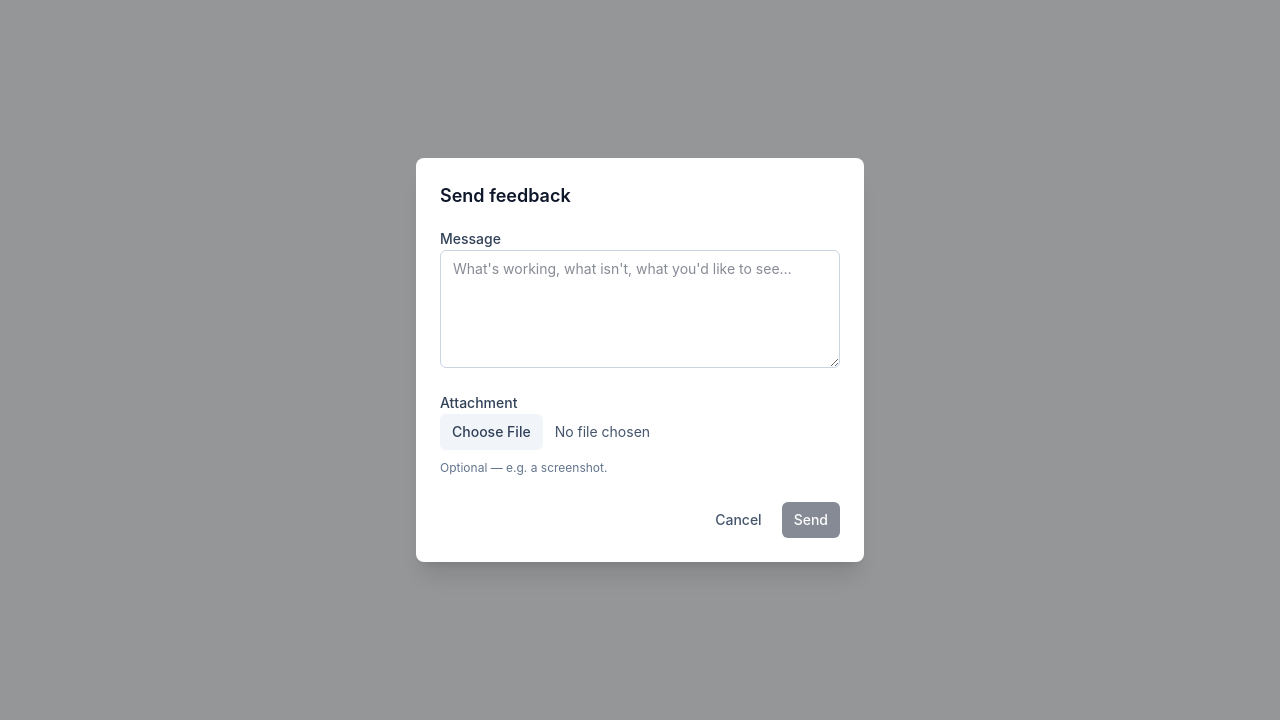
Test case: FeedbackForm › shows the error and keeps the message for a retry
This screenshot has width=1280, height=720.
Type "Bug report" into the text box labelled "Message".
click(640, 309); type("Bug report")  # box [440,250,840,368]
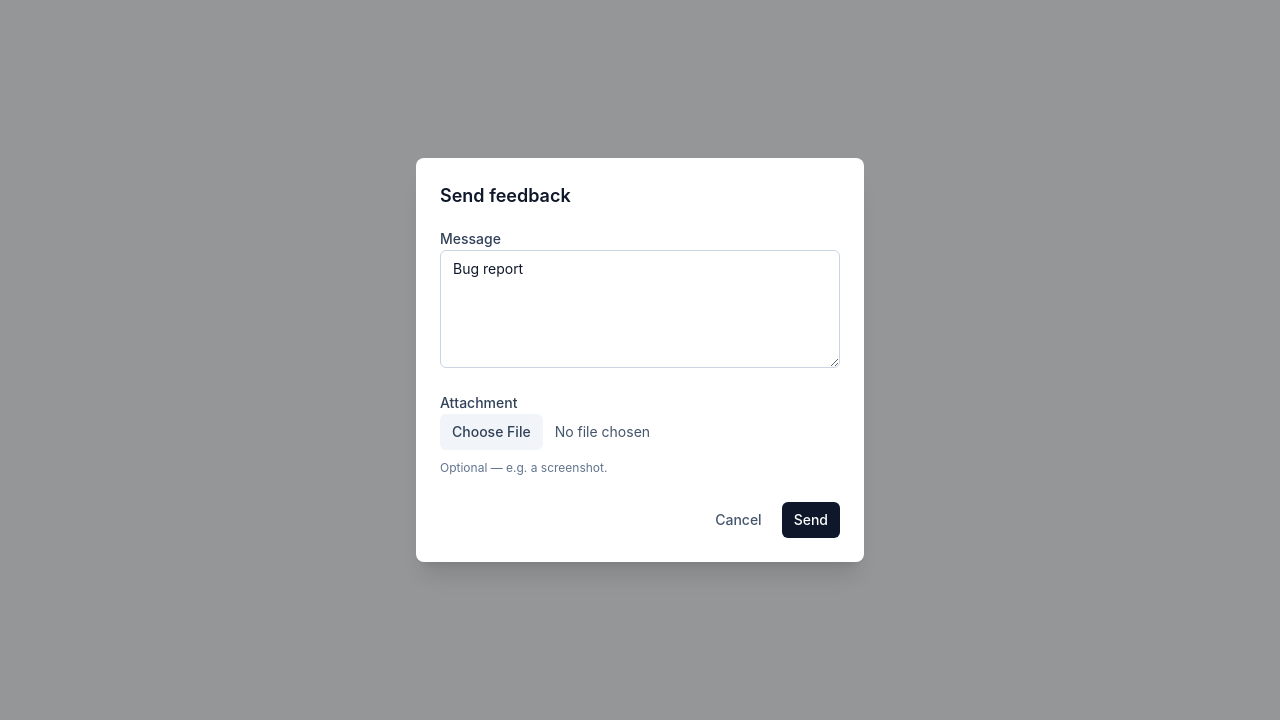
Submit the form, box [416,158,864,562]
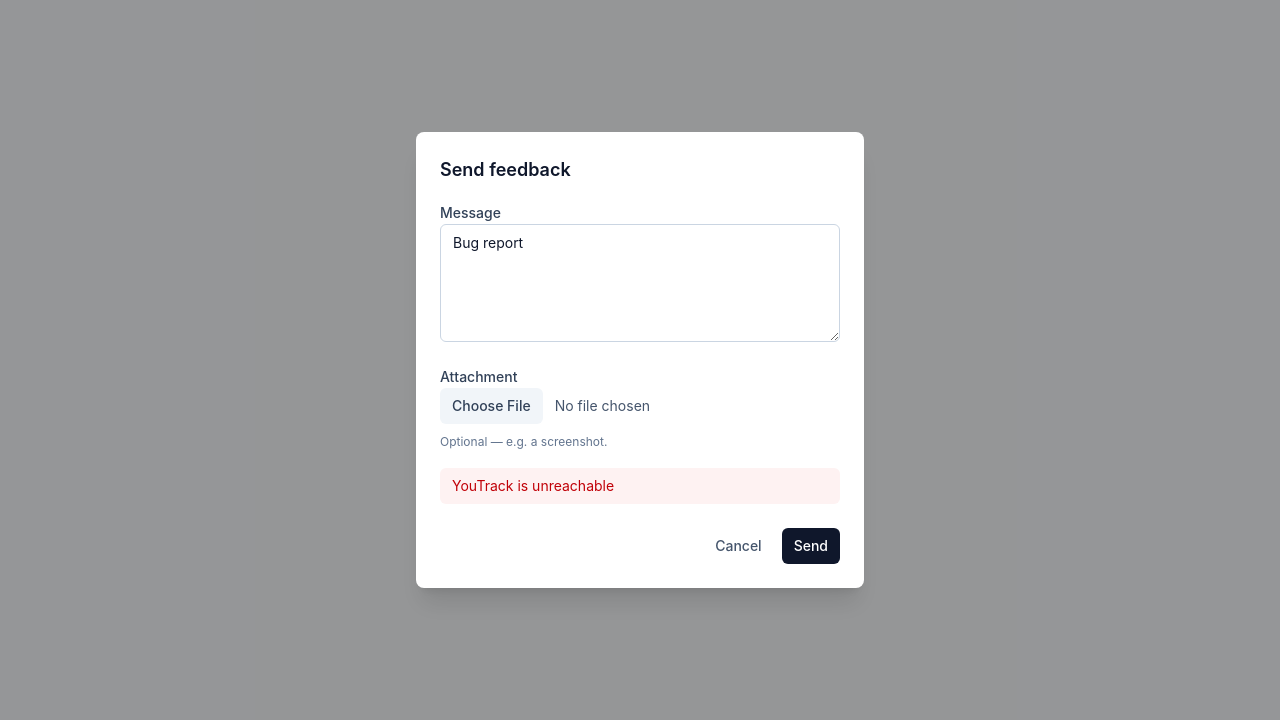
Result: the message "YouTrack is unreachable" is shown at [440,468,840,504]
